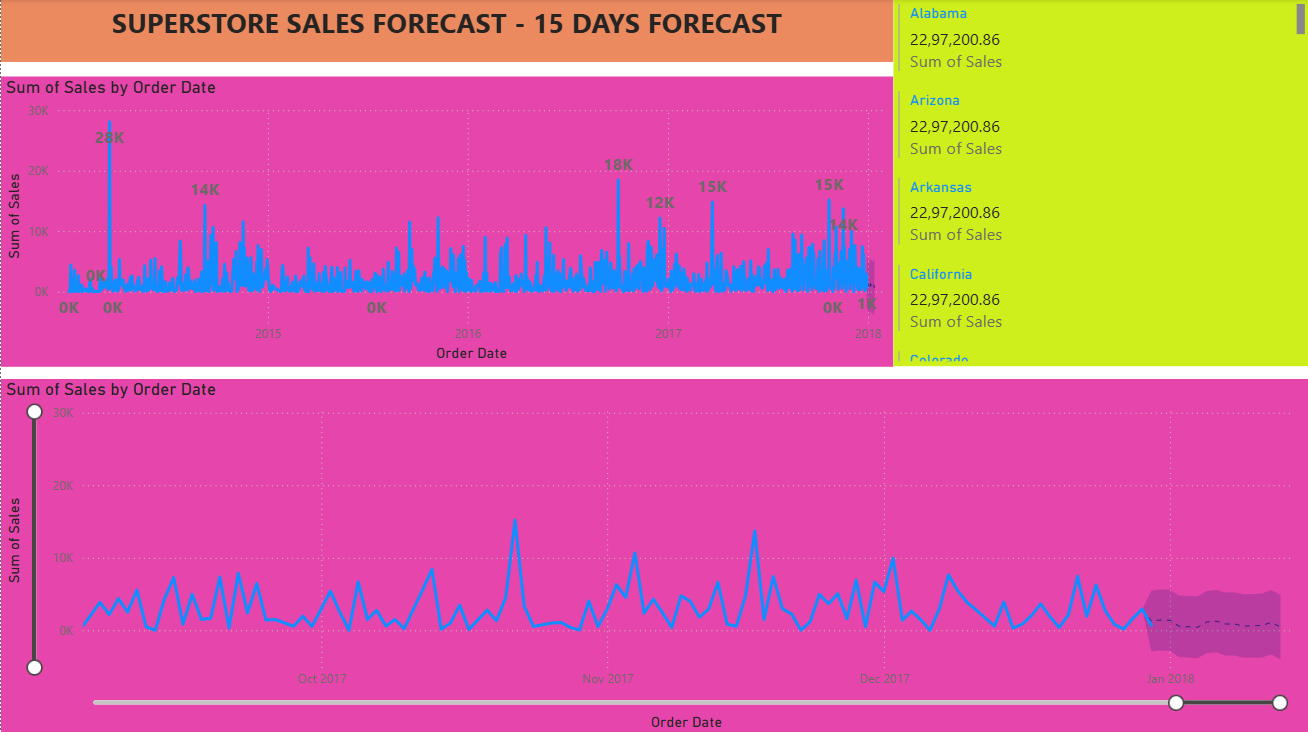

Layout of this report page (visuals, bound fields, positions):
{"tool":"powerbi","page":{"name":"forecast","canvas":[1280,720],"ordinal":11},"visuals":[{"type":"lineChart","fields":{"Y":["Sum(Orders$FilterDatabase.Sales)"],"Category":["Orders$FilterDatabase.Order Date"]},"box":[0,75.5,872.7,284],"z":0},{"type":"lineChart","fields":{"Y":["Sum(Orders$FilterDatabase.Sales)"],"Category":["Orders$FilterDatabase.Order Date"]},"box":[0,371.9,1280.3,348.5],"z":1000},{"type":"multiRowCard","fields":{"Values":["Orders.State","Sum(Orders$FilterDatabase.Sales)"]},"box":[872.7,0,407.5,359.5],"z":2000},{"type":"textbox","box":[0,0,872.7,61.7],"z":3000}]}

Visuals, with their boxes in screenshot pixels (x1, y1, x2, y2), scaled from the page's 1280x720 canvas onto the 1308x732 screenshot:
lineChart - Sum(Orders$FilterDatabase.Sales) x Orders$FilterDatabase.Order Date: left=0, top=77, right=892, bottom=365
lineChart - Sum(Orders$FilterDatabase.Sales) x Orders$FilterDatabase.Order Date: left=0, top=378, right=1307, bottom=731
multiRowCard - Orders.State x Sum(Orders$FilterDatabase.Sales): left=892, top=0, right=1307, bottom=365
textbox: left=0, top=0, right=892, bottom=63
